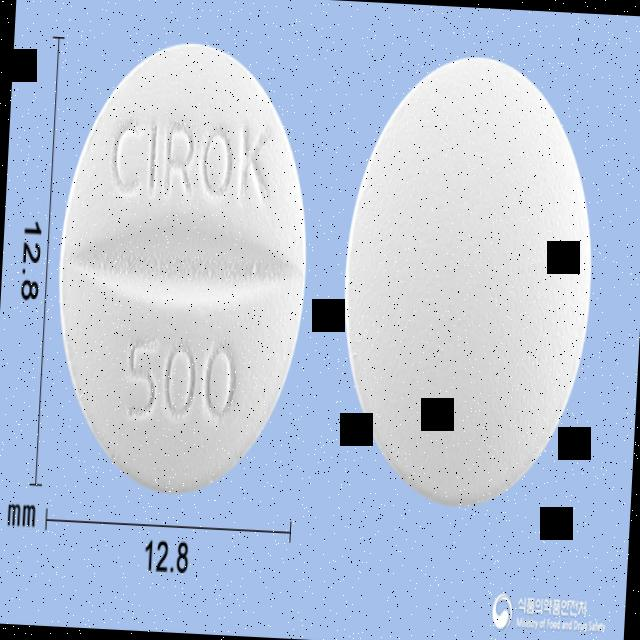Cirok: (44, 29, 323, 508)
